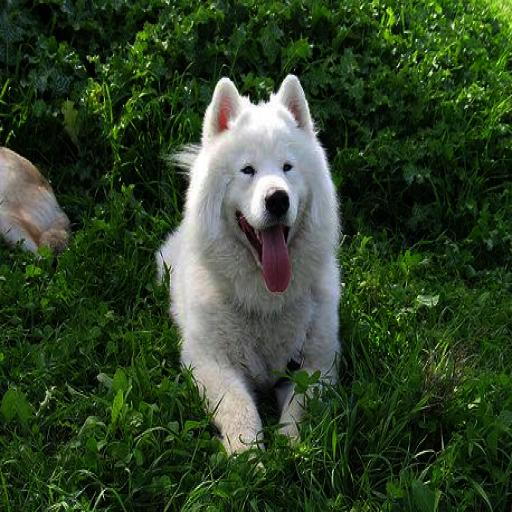dog_face: (212, 76, 311, 264)
